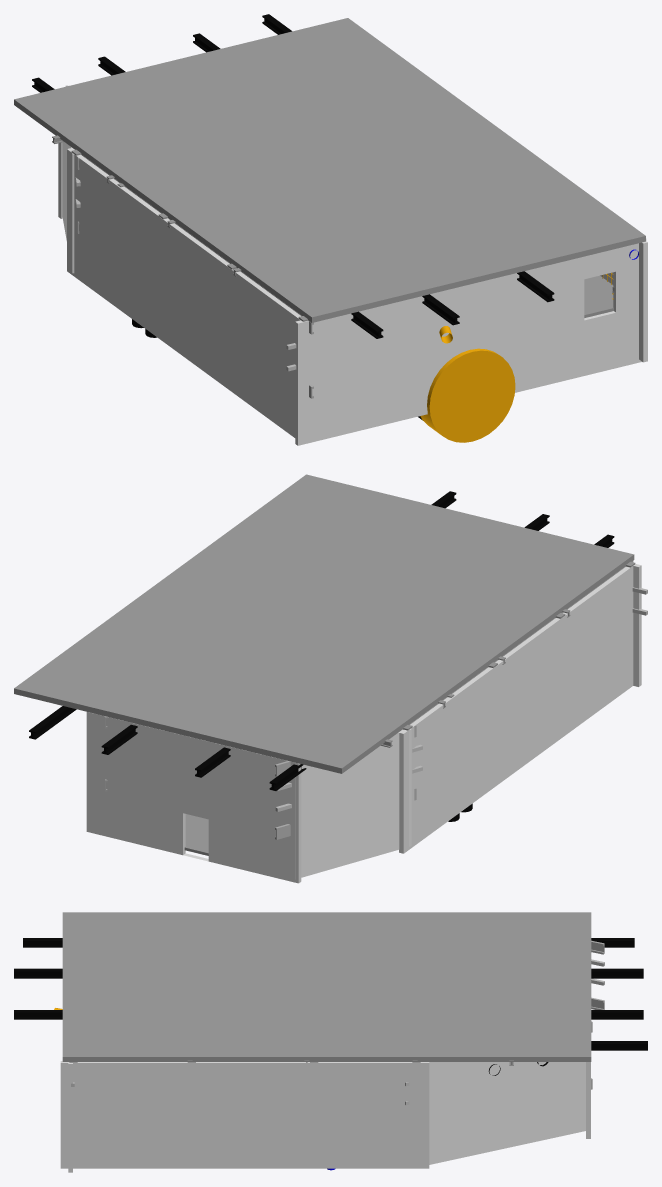
The model's file is Map-8-Turbine.fbx.
3 views of the same model, one above another, from view 1: azimuth 30°, elevation 25°; view 2: azimuth 150°, elevation 25°; view 3: azimuth 270°, elevation 25° (orthographic). The views are drawn at different scales.
Parts seen in each view (by area): view 1: Cube.084, Plane.015, Plane.012, Circle, Plane.009, Plane, Plane.011, Plane.038, Plane.044, Plane.039; view 2: Cube.084, Plane.012, Plane.017, Plane.011, Plane.015, Cube.010, Plane.044, Plane.038, Plane.039; view 3: Cube.084, Plane.009, Plane.010, Plane.038, Plane.044, Plane.039, Plane.037, Plane.015, Plane.017.
Part boxes in pixels (x1=…): Cube.084: x1=14, y1=18, x2=645, y2=322; Plane.015: x1=295, y1=238, x2=646, y2=445; Plane.012: x1=67, y1=148, x2=300, y2=437; Circle: x1=420, y1=348, x2=515, y2=442; Plane.009: x1=600, y1=241, x2=647, y2=362; Plane: x1=584, y1=275, x2=613, y2=317; Plane.011: x1=62, y1=142, x2=74, y2=273; Plane.038: x1=98, y1=56, x2=459, y2=325; Plane.044: x1=193, y1=33, x2=554, y2=302; Plane.039: x1=32, y1=77, x2=383, y2=338; Cube.084: x1=14, y1=474, x2=634, y2=773; Plane.012: x1=399, y1=566, x2=633, y2=853; Plane.017: x1=86, y1=712, x2=301, y2=883; Plane.011: x1=295, y1=729, x2=411, y2=879; Plane.015: x1=633, y1=564, x2=641, y2=686; Cube.010: x1=184, y1=814, x2=208, y2=855; Plane.044: x1=101, y1=491, x2=456, y2=754; Plane.038: x1=195, y1=514, x2=549, y2=777; Plane.039: x1=269, y1=534, x2=614, y2=790; Cube.084: x1=62, y1=912, x2=591, y2=1061; Plane.009: x1=60, y1=1061, x2=429, y2=1168; Plane.010: x1=429, y1=1062, x2=585, y2=1164; Plane.038: x1=14, y1=968, x2=643, y2=978; Plane.044: x1=14, y1=1010, x2=643, y2=1019; Plane.039: x1=23, y1=938, x2=634, y2=947; Plane.037: x1=591, y1=1041, x2=647, y2=1050; Plane.015: x1=68, y1=1062, x2=72, y2=1172; Plane.017: x1=586, y1=1062, x2=590, y2=1138.
Size of the model in its own units: 2276 by 1000 by 3945.
